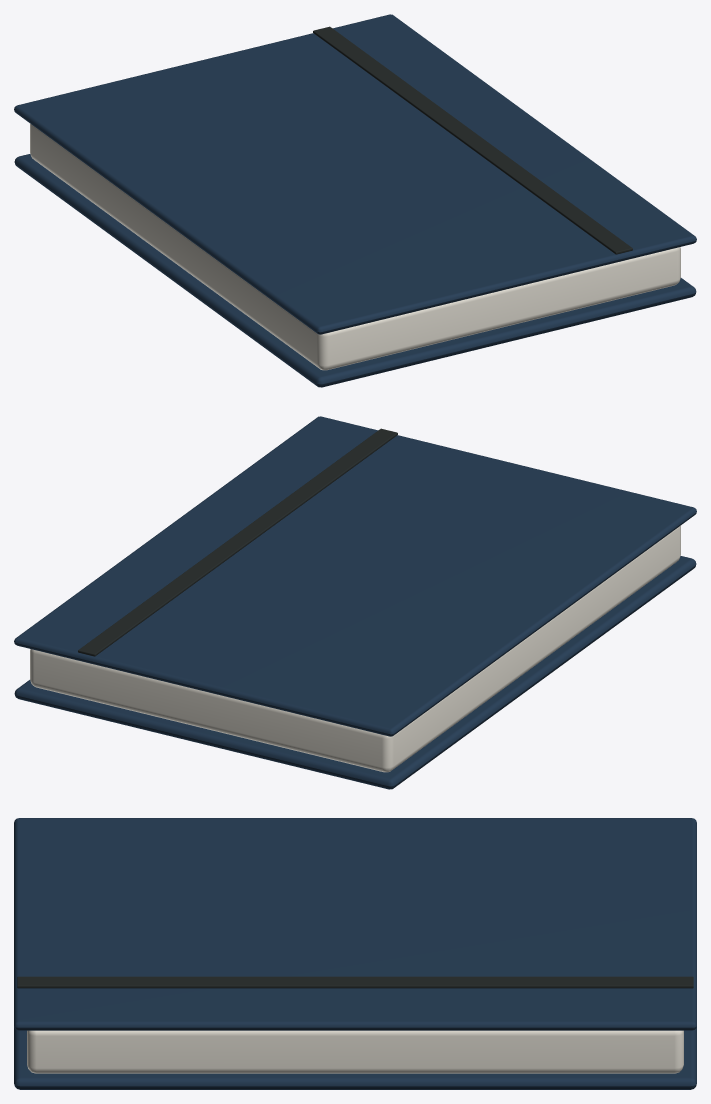
Rendered from notebook.glb.
The picture shows the model from 3 angles, top to bottom: view 1: azimuth 30°, elevation 25°; view 2: azimuth 150°, elevation 25°; view 3: azimuth 270°, elevation 25°; orthographic projection. The views are drawn at different scales.
Parts seen in each view (by area): view 1: Front_Cover, Pages, Back_Cover, Elastic; view 2: Front_Cover, Pages, Back_Cover, Elastic; view 3: Front_Cover, Pages, Back_Cover, Elastic.
Boxes of the visible parts, bbox=[...] form: Front_Cover: bbox=[14, 14, 696, 334]; Pages: bbox=[30, 124, 680, 370]; Back_Cover: bbox=[14, 154, 696, 387]; Elastic: bbox=[313, 26, 632, 254]; Front_Cover: bbox=[14, 416, 696, 736]; Pages: bbox=[30, 526, 680, 772]; Back_Cover: bbox=[14, 556, 696, 789]; Elastic: bbox=[78, 428, 397, 656]; Front_Cover: bbox=[14, 818, 696, 1030]; Pages: bbox=[27, 1030, 683, 1073]; Back_Cover: bbox=[14, 1026, 696, 1089]; Elastic: bbox=[17, 976, 693, 988].
Size of the model in its own units: 0.152 by 0.0245 by 0.212.
